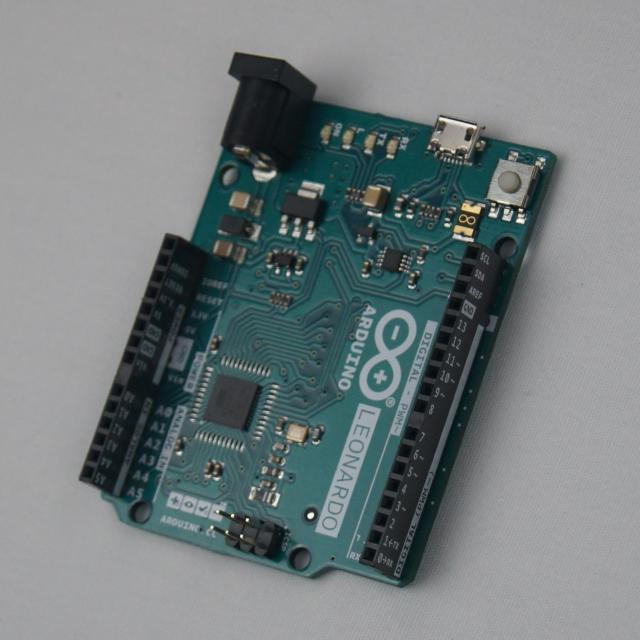Arduino-leonardo: (81, 54, 556, 587)
